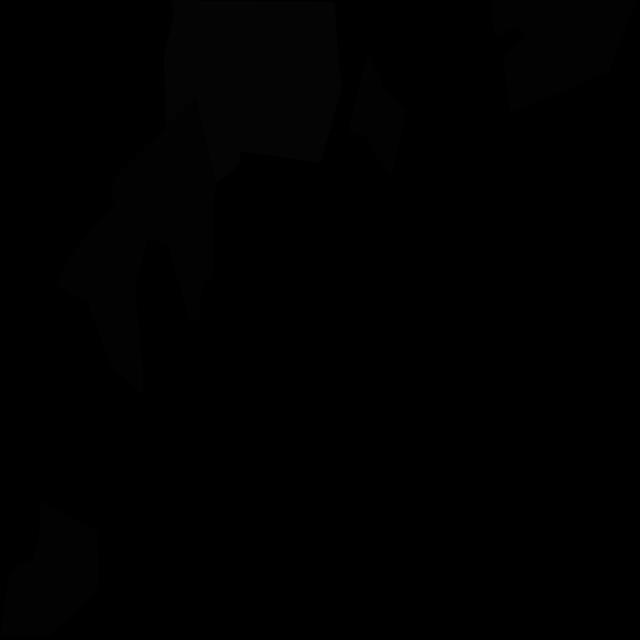cardboard: (55, 97, 216, 397), (491, 0, 637, 113), (0, 500, 100, 637), (349, 54, 406, 177)
soft_plastic: (164, 0, 342, 184)
